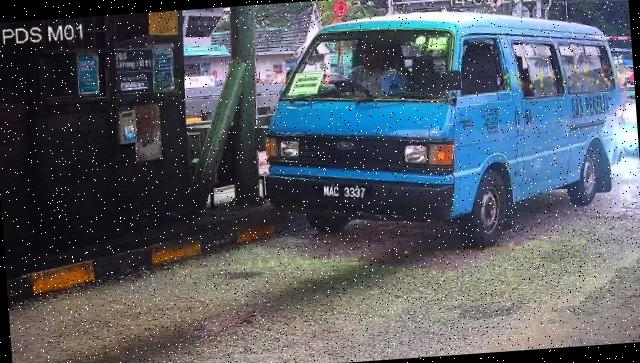License_Plate: (318, 181, 375, 208)
van: (255, 1, 632, 262)
